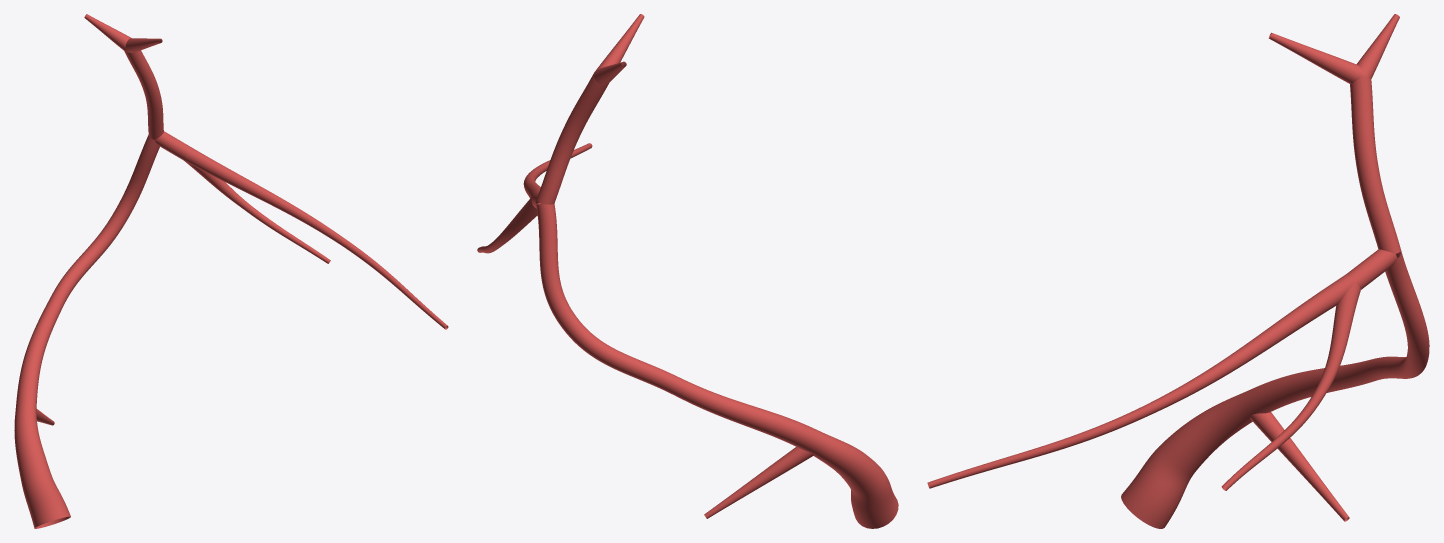
3 views of the same model, side by side, from view 1: azimuth 30°, elevation 25°; view 2: azimuth 150°, elevation 25°; view 3: azimuth 270°, elevation 25° (orthographic). The views are drawn at different scales.
Visible parts, largest first — view 1: 左侧臀上动脉; view 2: 左侧臀上动脉; view 3: 左侧臀上动脉.
Boxes of the visible parts, <box> form: 左侧臀上动脉: <box>14,14,448,528</box>; 左侧臀上动脉: <box>477,14,898,528</box>; 左侧臀上动脉: <box>927,14,1429,528</box>.
Size of the model in its own units: 0.0712 by 0.0853 by 0.065.
